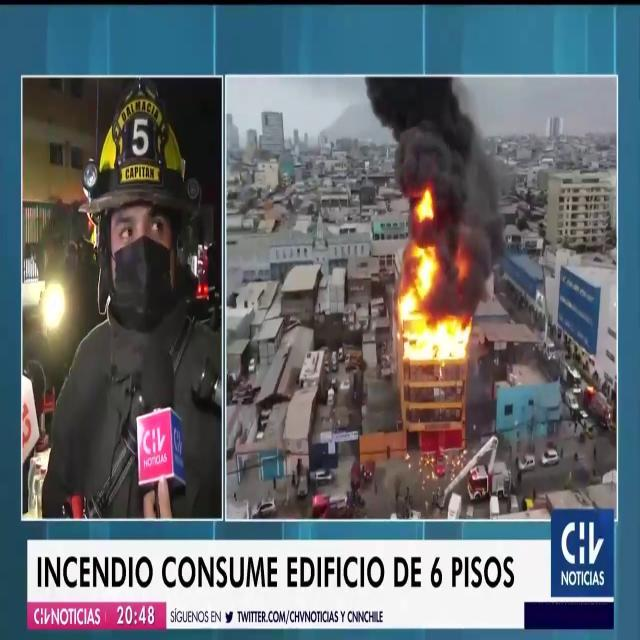Fire: (393, 192, 473, 366)
Smoke: (368, 75, 510, 286)
